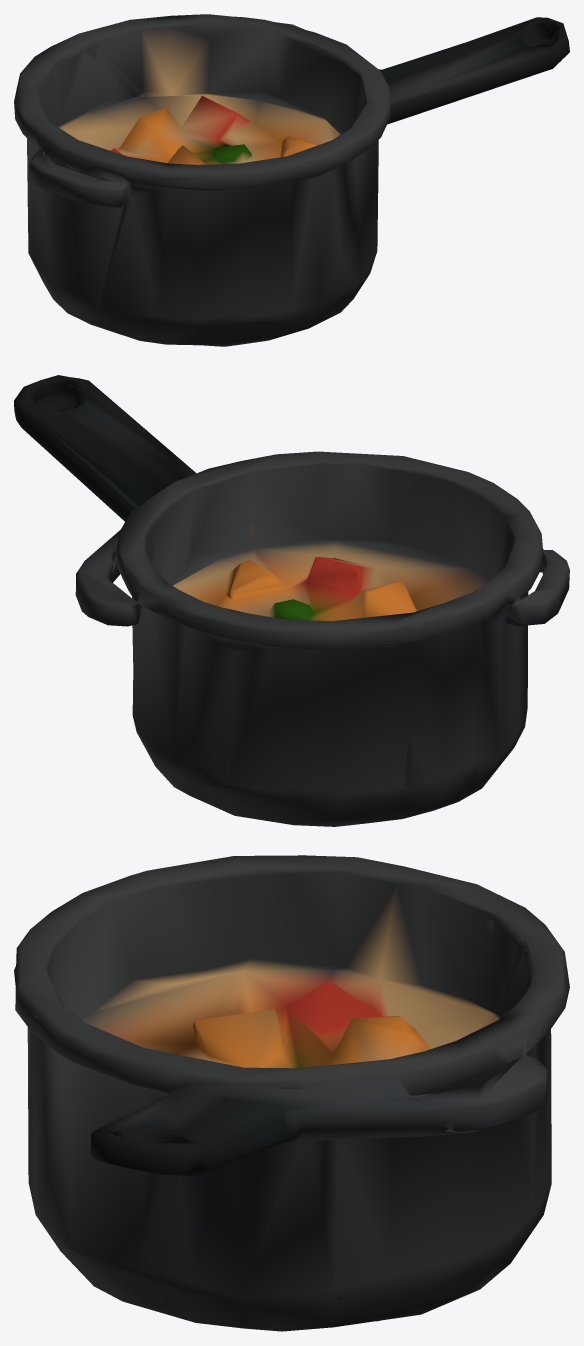
Rendered from gen3d-cooking-lod1.glb.
The picture shows the model from 3 angles, top to bottom: view 1: azimuth 30°, elevation 25°; view 2: azimuth 150°, elevation 25°; view 3: azimuth 270°, elevation 25°; orthographic projection. The views are drawn at different scales.
Visible parts, largest first — view 1: part_0; view 2: part_0; view 3: part_0.
Part boxes in pixels (x1,y1,x2,y2): part_0: [14, 14, 569, 346]; part_0: [14, 375, 569, 826]; part_0: [14, 855, 569, 1331].
Bounding box in the file's own units: 2.38 × 1 × 1.59.
